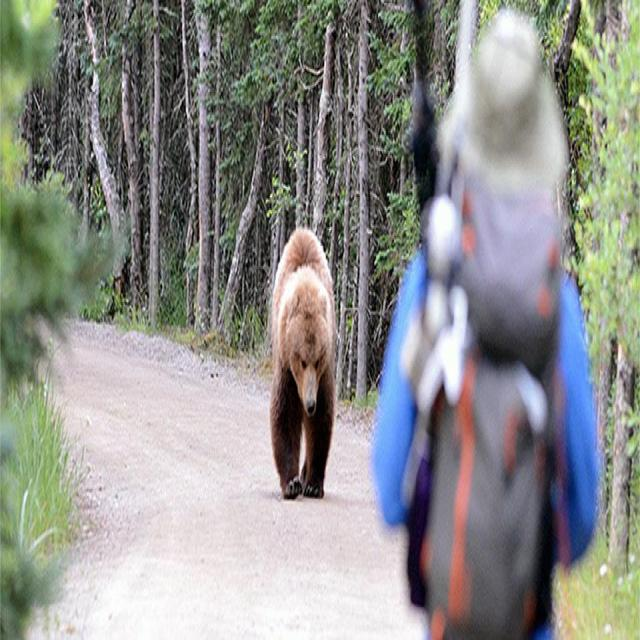Bear: (269, 229, 337, 500)
